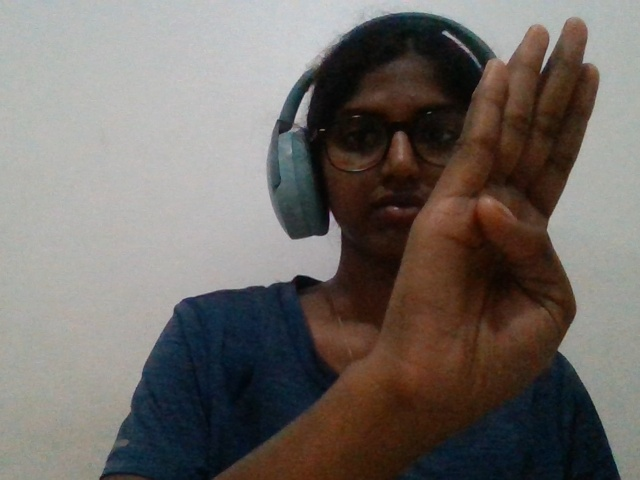B: (358, 14, 625, 445)
